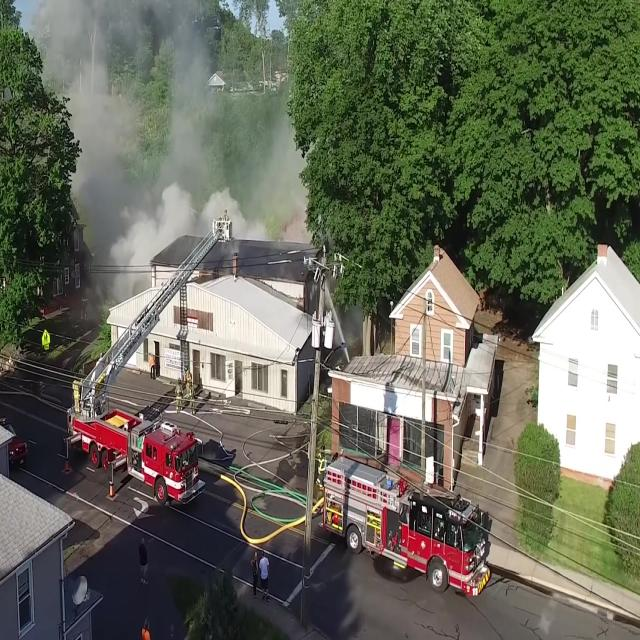smoke: (80, 127, 297, 233), (58, 17, 123, 151), (173, 24, 210, 143), (98, 237, 147, 292)
